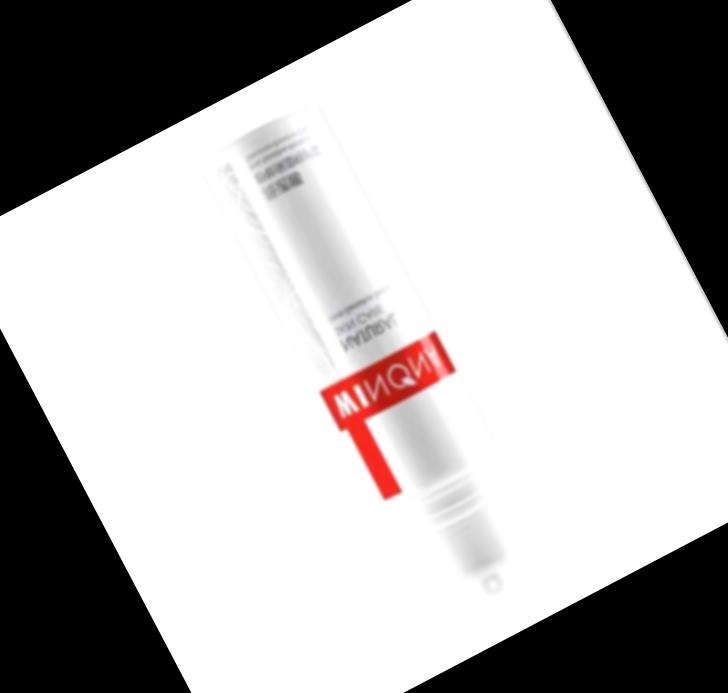cosmetic: (193, 95, 566, 637)
